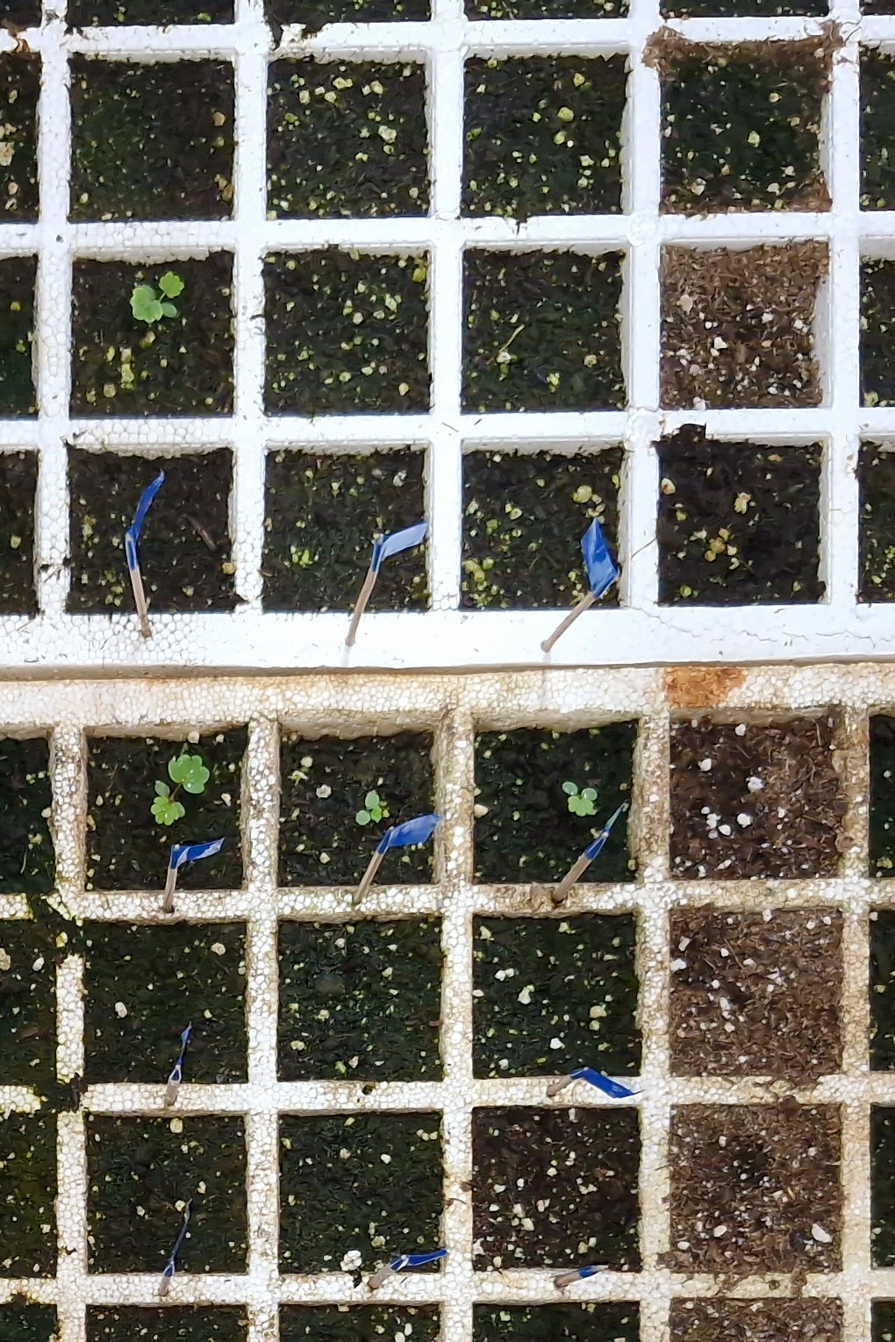Folha: (168, 755, 210, 793), (151, 795, 179, 825), (568, 795, 593, 817), (365, 792, 380, 809), (356, 810, 370, 826), (371, 805, 383, 823), (155, 782, 169, 796), (562, 782, 577, 795), (581, 788, 597, 800), (174, 803, 184, 817)
Germinacao: (151, 755, 209, 826), (563, 782, 598, 817), (355, 791, 382, 825)
